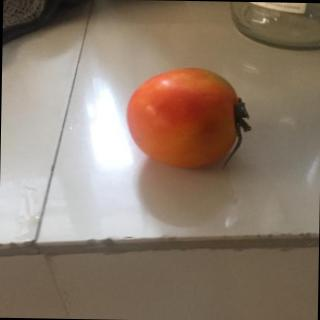Tomat: (112, 63, 266, 180)
